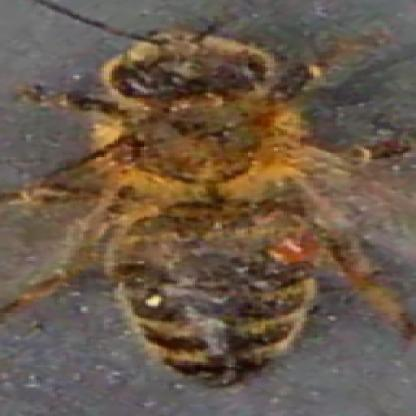bee: (70, 23, 334, 386)
vaoora: (248, 209, 314, 259)
